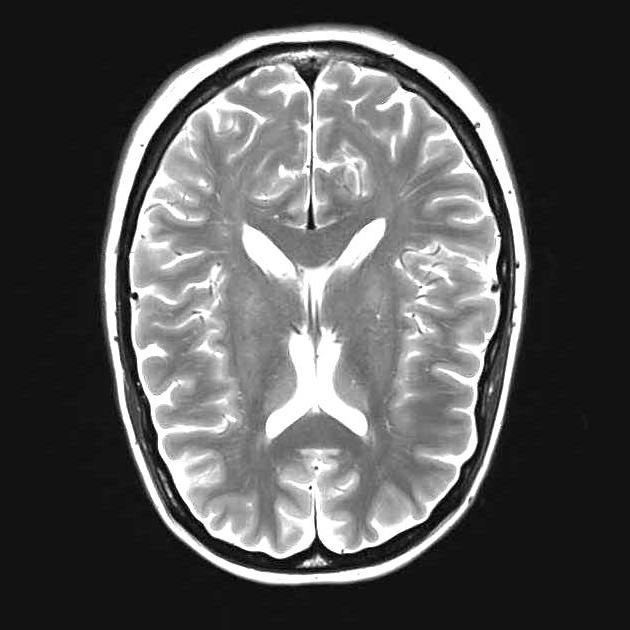Normal_Brain: (41, 1, 571, 630)
